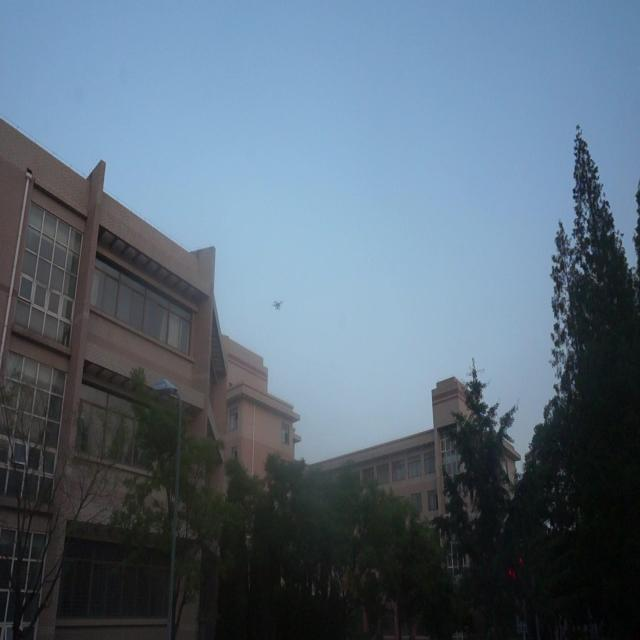drone: (269, 295, 285, 318)
